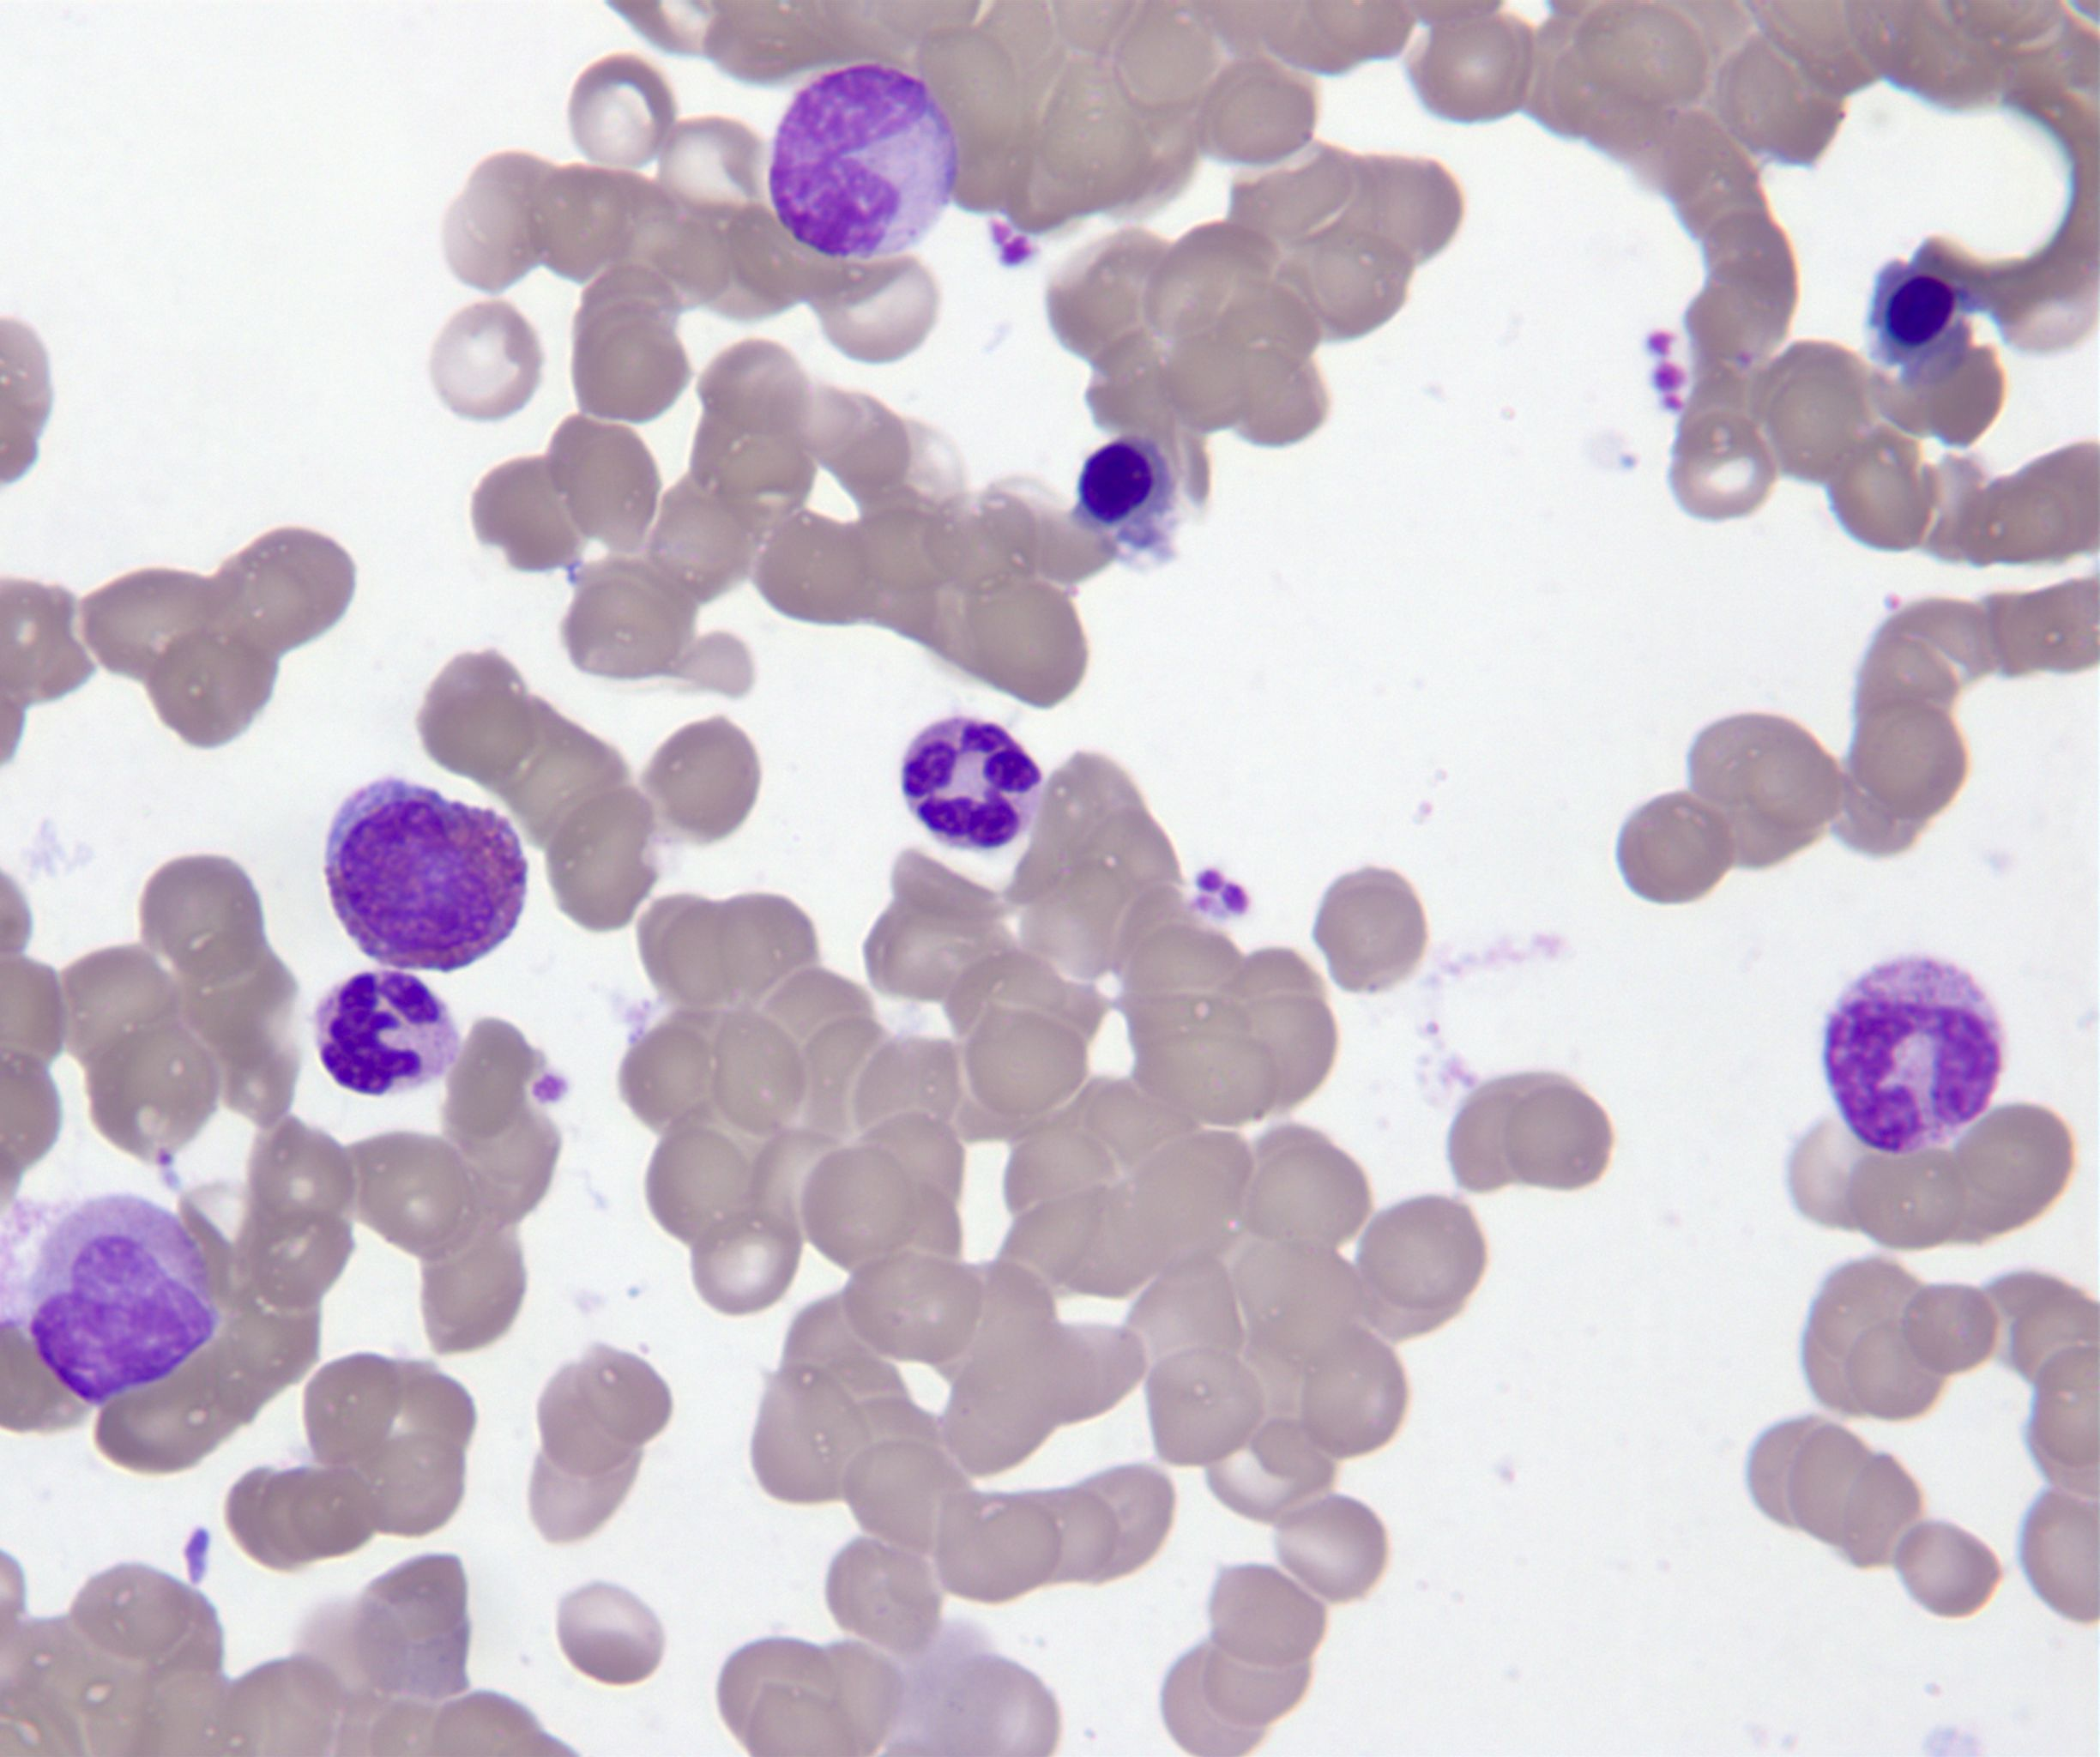24: (1071, 431, 1174, 541), (1866, 255, 1966, 366)
4: (0, 1188, 220, 1413), (766, 58, 965, 265)
5: (1821, 949, 2011, 1160)
6: (897, 710, 1048, 860), (312, 968, 466, 1101)
E3: (319, 775, 532, 977)
